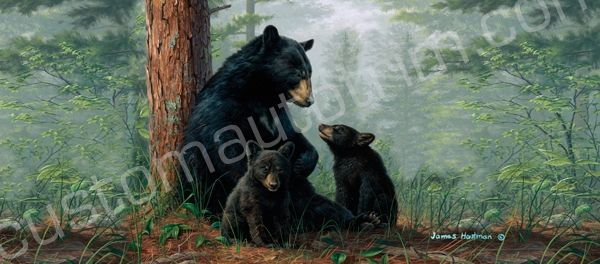bear: (177, 29, 390, 229), (319, 121, 404, 226), (221, 139, 302, 245)
